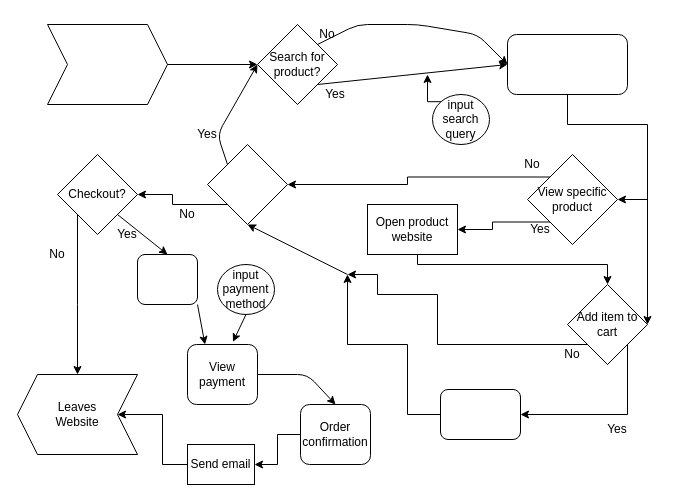
This 673x502 diagram has some shape labels left out. Each missing label, with the centre of its shape:
"Continue Shopping?" belongs at (247,184).
"Display list of products" belongs at (567,64).
"Enters website" belongs at (107,64).
"Item added confirmation" belongs at (480,414).
"View cart" belongs at (167,279).
